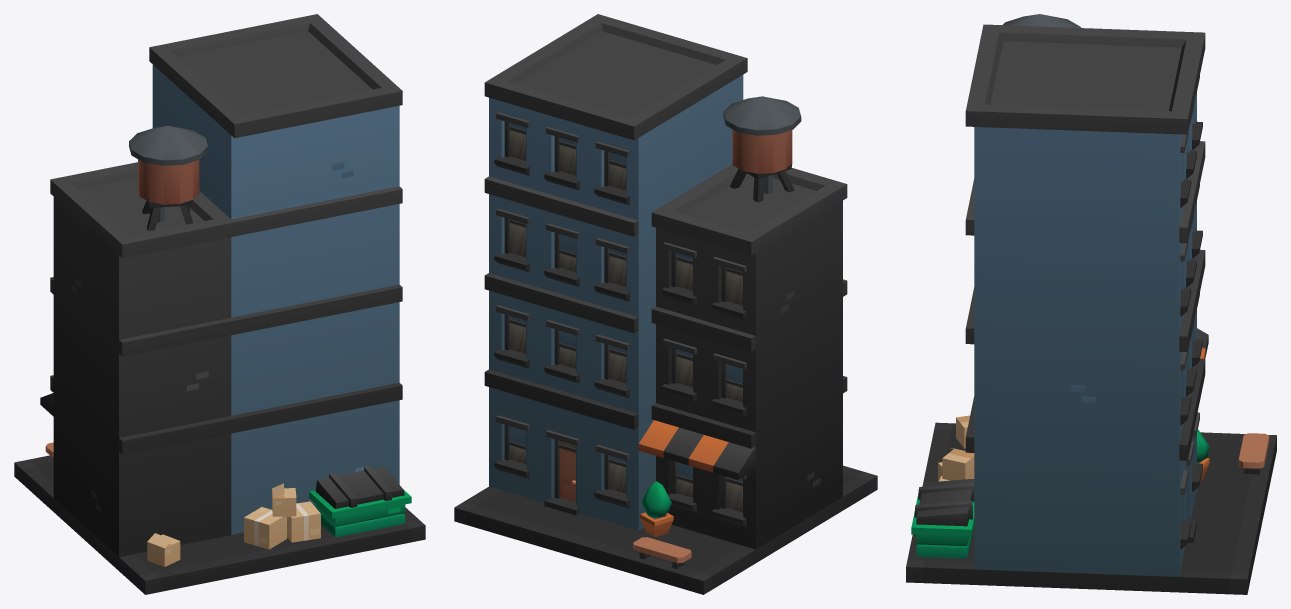
3 renders of one model, left to right at view 1: azimuth 30°, elevation 25°; view 2: azimuth 150°, elevation 25°; view 3: azimuth 270°, elevation 25°, orthographic. The views are drawn at different scales.
Parts seen in each view (by area): view 1: building_H_building_H; view 2: building_H_building_H; view 3: building_H_building_H.
Part boxes in pixels (<box>): building_H_building_H: <box>14,14,425,594</box>; building_H_building_H: <box>454,14,877,594</box>; building_H_building_H: <box>906,14,1276,594</box>.
Bounding box in the file's own units: 2.16 × 3.05 × 2.16.
